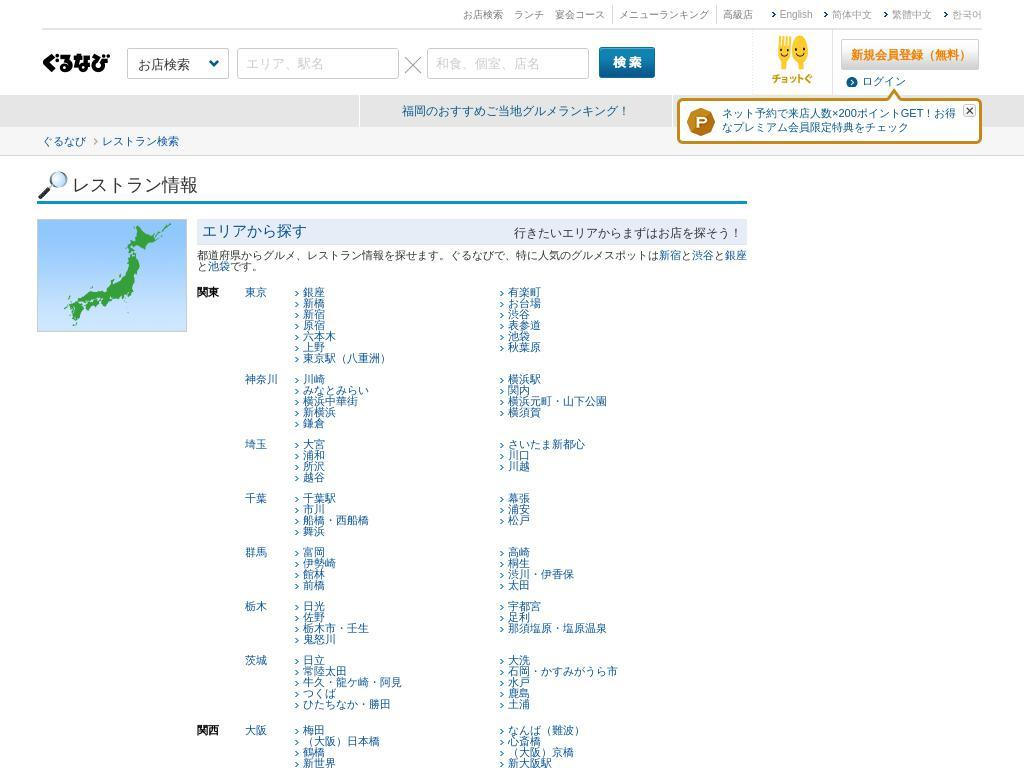button: (752, 30, 832, 95), (841, 39, 981, 72), (127, 48, 229, 79), (202, 223, 307, 239), (497, 665, 618, 677), (42, 53, 112, 73), (497, 395, 607, 407), (497, 622, 607, 634), (293, 676, 402, 688), (293, 352, 391, 364), (293, 698, 391, 710), (497, 438, 585, 450), (497, 724, 585, 736), (293, 735, 380, 747), (497, 568, 574, 580), (497, 746, 574, 758), (293, 384, 369, 396), (293, 514, 369, 526), (293, 622, 369, 634), (293, 395, 358, 407), (846, 75, 906, 87), (293, 665, 347, 677), (497, 757, 552, 768), (497, 286, 541, 298), (497, 297, 541, 309), (497, 319, 541, 331), (497, 341, 541, 353), (497, 373, 541, 385), (497, 406, 541, 418), (497, 600, 541, 612), (497, 735, 541, 747), (293, 330, 336, 342), (293, 406, 336, 418), (293, 492, 336, 504), (293, 557, 336, 569), (293, 633, 336, 645), (293, 687, 336, 699), (822, 10, 873, 20), (882, 10, 933, 20), (293, 757, 336, 768), (769, 10, 813, 20), (942, 10, 982, 20), (497, 308, 530, 320), (497, 330, 530, 342), (497, 384, 530, 396), (497, 449, 530, 461), (497, 460, 530, 472), (497, 492, 530, 504), (497, 503, 530, 515), (497, 514, 530, 526), (497, 546, 530, 558), (497, 557, 530, 569), (497, 579, 530, 591), (497, 611, 530, 623), (497, 654, 530, 666), (497, 676, 530, 688), (497, 687, 530, 699), (497, 698, 530, 710), (293, 286, 325, 298), (293, 297, 325, 309), (293, 308, 325, 320), (293, 319, 325, 331), (293, 341, 325, 353), (293, 373, 325, 385), (293, 417, 325, 429), (293, 438, 325, 450), (293, 449, 325, 461), (293, 460, 325, 472), (293, 471, 325, 483), (293, 503, 325, 515), (293, 525, 325, 537), (293, 546, 325, 558), (293, 568, 325, 580), (293, 579, 325, 591), (293, 600, 325, 612), (293, 611, 325, 623), (293, 654, 325, 666), (293, 724, 325, 736), (293, 746, 325, 758)
field: (238, 49, 398, 78), (428, 49, 588, 78), (599, 47, 655, 78)
heading: (72, 171, 747, 198), (37, 219, 187, 332), (202, 223, 307, 239), (197, 287, 245, 298), (197, 725, 245, 736), (245, 373, 278, 385), (245, 286, 267, 298), (245, 438, 267, 450), (245, 492, 267, 504), (245, 546, 267, 558), (245, 600, 267, 612), (245, 654, 267, 666), (245, 724, 267, 736)
image: (42, 53, 116, 73), (963, 104, 976, 117)
link: (722, 107, 956, 133), (402, 104, 630, 118), (618, 9, 709, 20), (554, 9, 605, 20), (462, 9, 503, 20), (513, 9, 544, 20), (722, 9, 753, 20), (659, 249, 681, 261), (692, 249, 714, 261), (725, 249, 747, 261), (208, 260, 230, 272)
text: (197, 249, 659, 261), (514, 224, 742, 239), (101, 135, 179, 147), (42, 135, 86, 147), (401, 57, 423, 79), (230, 260, 263, 272), (681, 249, 692, 261), (714, 249, 725, 261), (197, 260, 208, 272)
